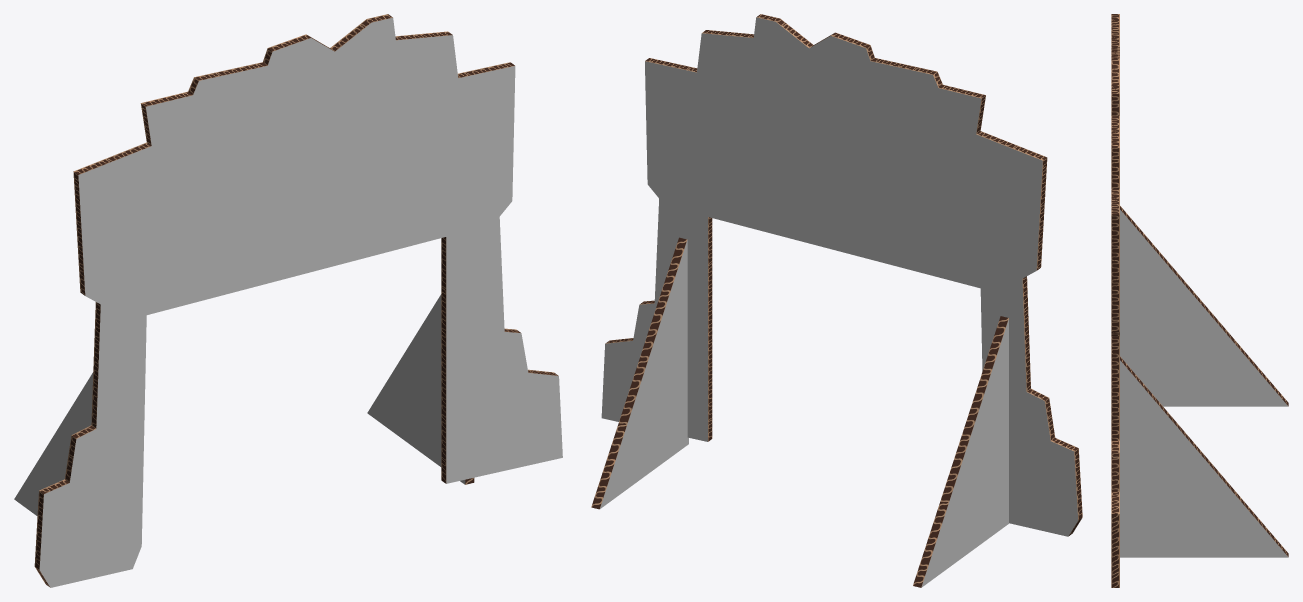
Rendered from Arche.fbx.
3 views of the same model, side by side, from view 1: azimuth 30°, elevation 25°; view 2: azimuth 150°, elevation 25°; view 3: azimuth 270°, elevation 25° (orthographic). The views are drawn at different scales.
Visible parts, largest first — view 1: Arche_LOD0; view 2: Arche_LOD0; view 3: Arche_LOD0.
Part boxes in pixels (bbox=[...]): Arche_LOD0: bbox=[14, 14, 562, 587]; Arche_LOD0: bbox=[591, 14, 1082, 587]; Arche_LOD0: bbox=[1111, 14, 1288, 587].
Size of the model in its own units: 1317 by 1175 by 442.
